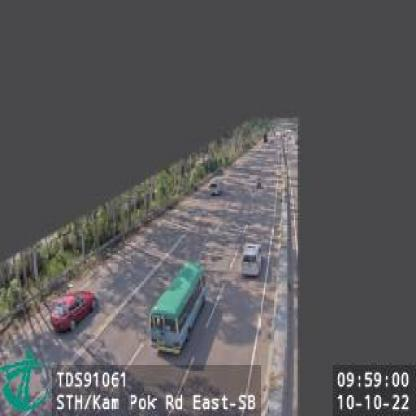Car: (50, 288, 96, 331), (209, 179, 222, 197)
Minibus: (152, 264, 206, 353)
Truck: (243, 233, 262, 278)
